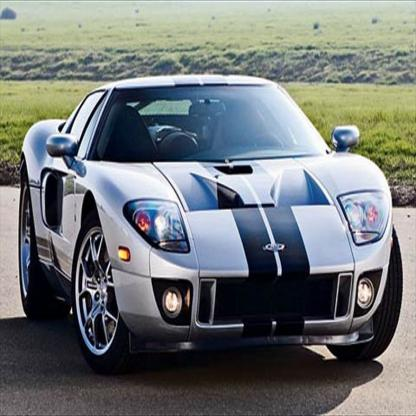Vehicle: (18, 75, 404, 364)
